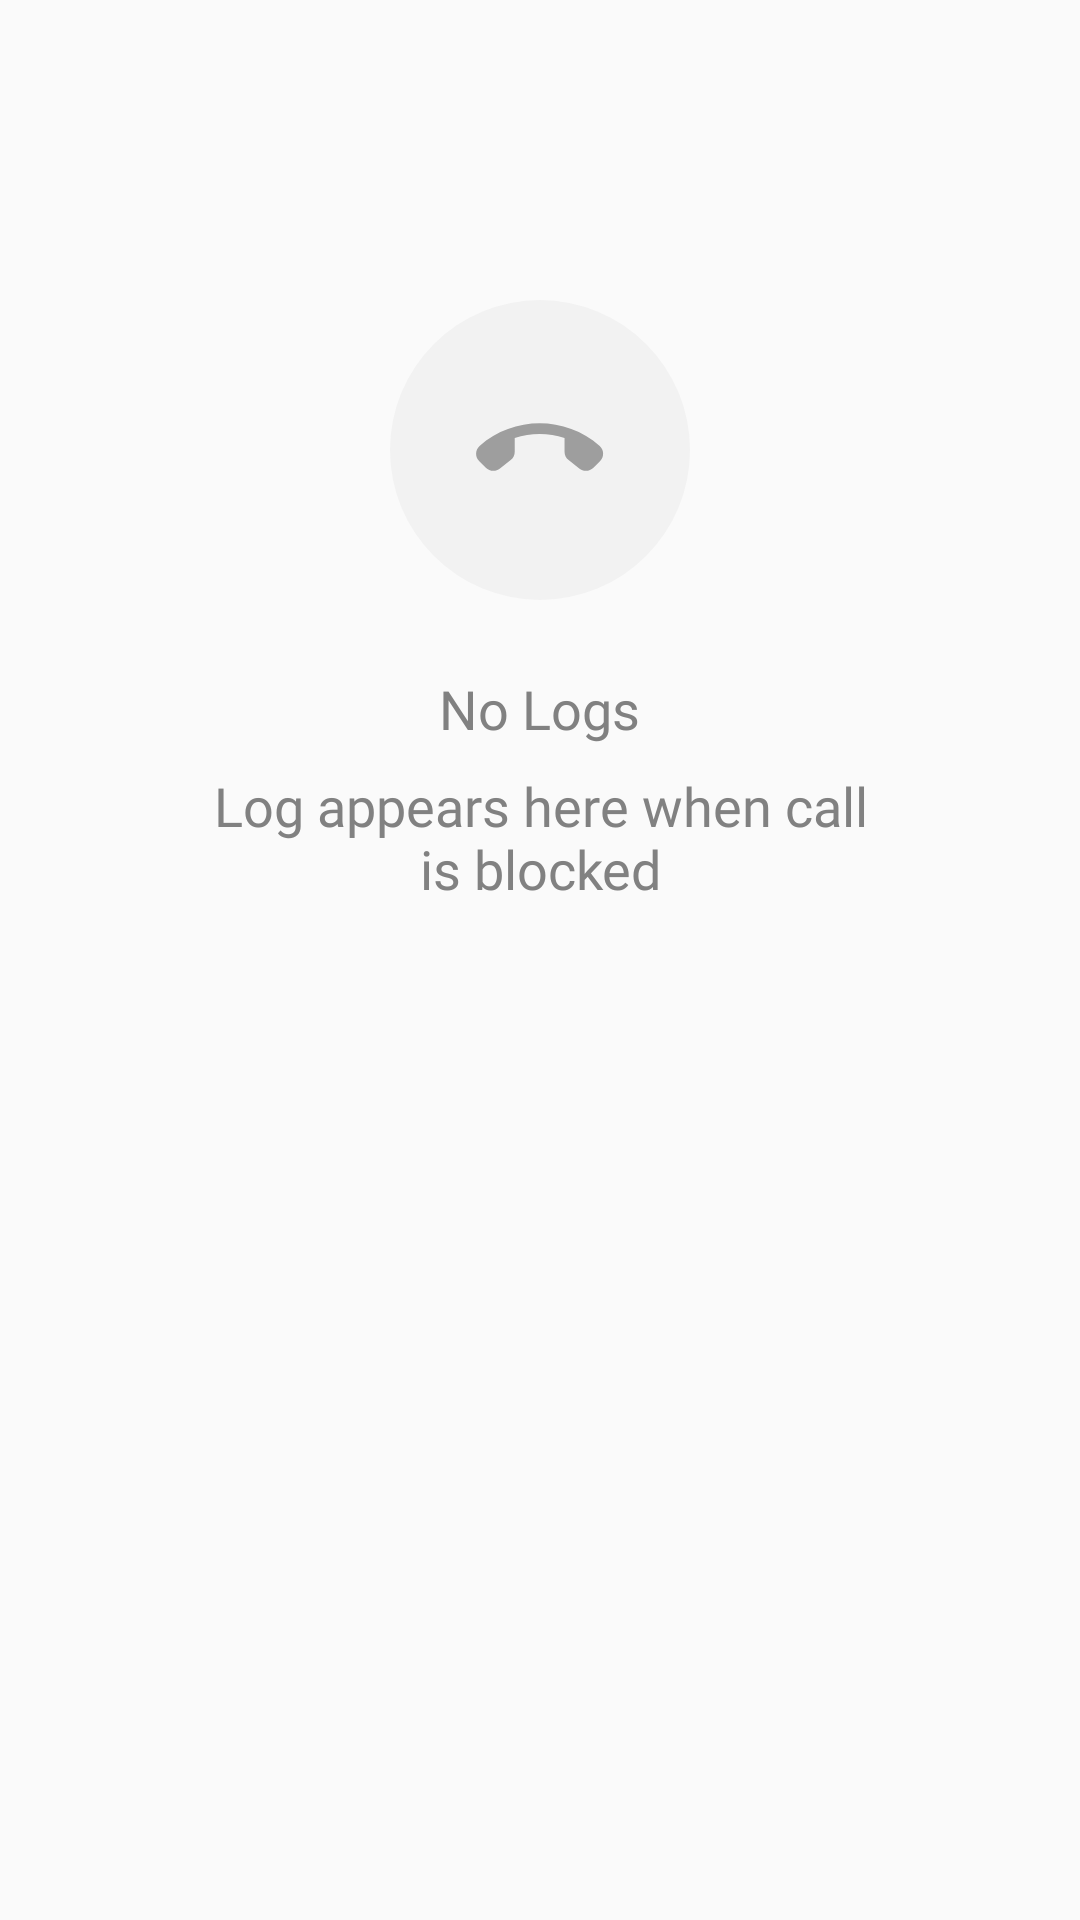

Where icons sit on this 1080px x 1920px app screen, as (x1, y1, x2, y2):
empty call blocker: (476, 423, 603, 471)
